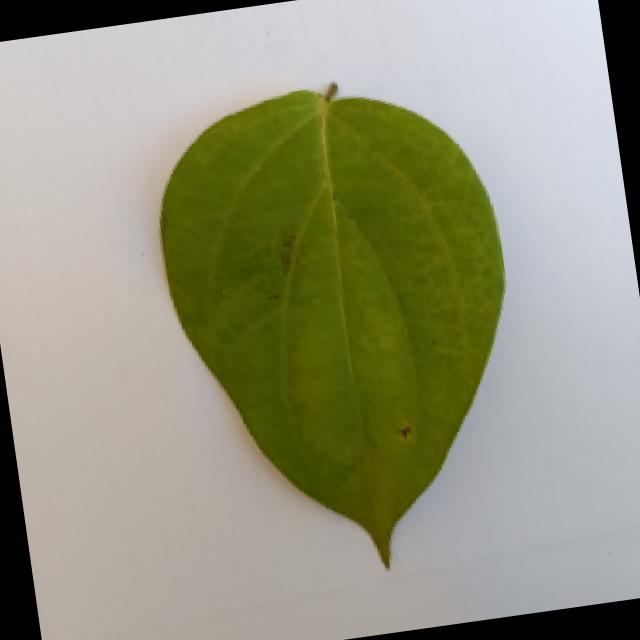slow-decline: (131, 58, 566, 594)
